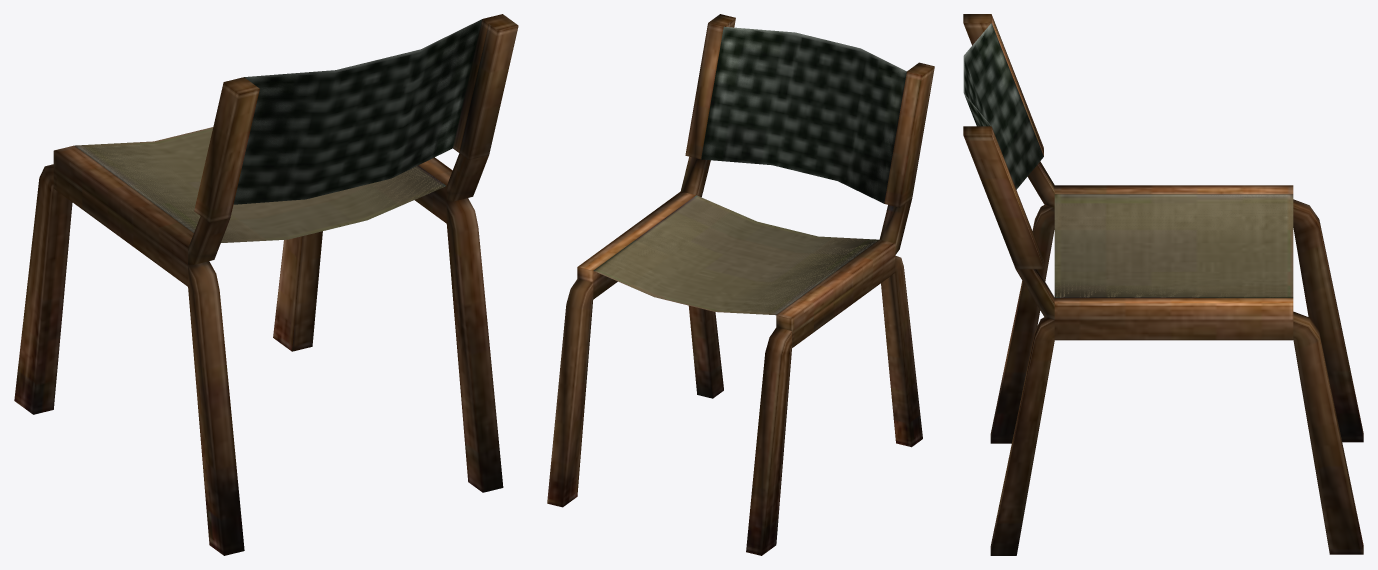
Rendered from chair_1e5919f8a1ef.glb.
3 renders of one model, left to right at view 1: azimuth 30°, elevation 25°; view 2: azimuth 150°, elevation 25°; view 3: azimuth 270°, elevation 25°, orthographic. The views are drawn at different scales.
Visible parts, largest first — view 1: chair02; view 2: chair02; view 3: chair02.
Part boxes in pixels (box(x1,y1,x2,y2)): chair02: box(14, 14, 518, 555); chair02: box(547, 14, 934, 555); chair02: box(963, 14, 1363, 555).
Size of the model in its own units: 25.54 by 41.4 by 35.7.
Materials: 1 (1 with a texture image).
